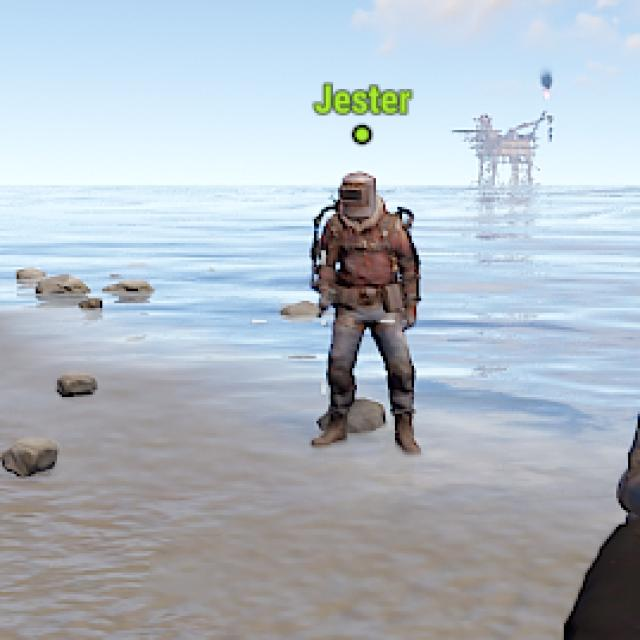Player: (311, 172, 422, 453)
